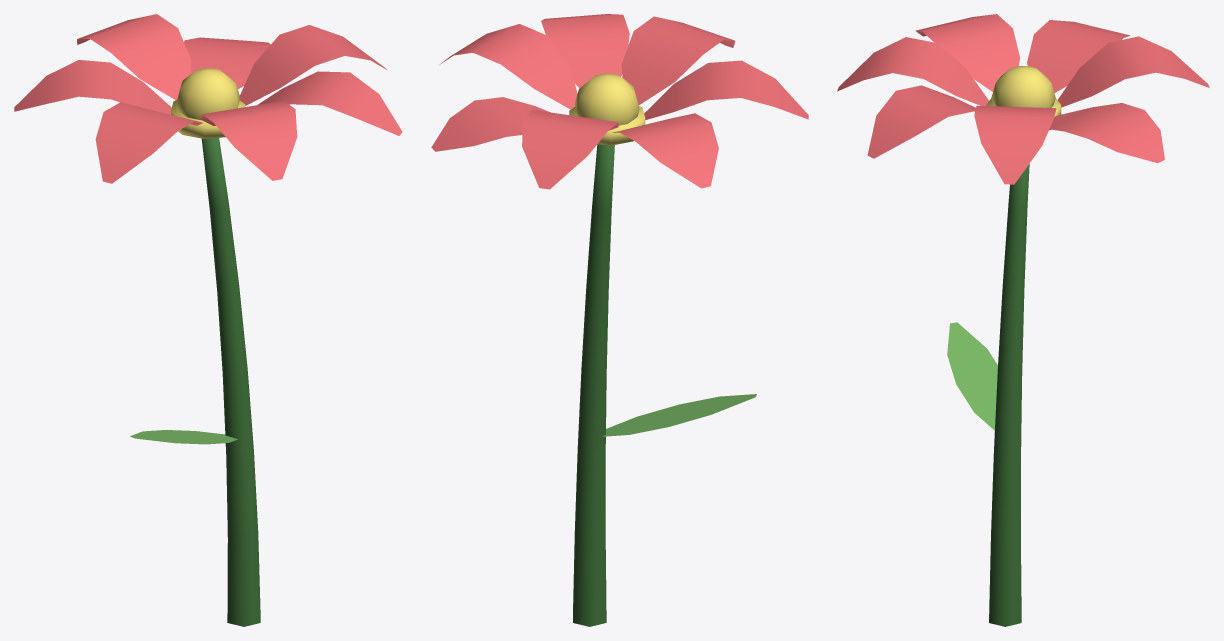
Rendered from flower_redA.glb.
The picture shows the model from 3 angles, left to right: view 1: azimuth 30°, elevation 25°; view 2: azimuth 150°, elevation 25°; view 3: azimuth 270°, elevation 25°; orthographic projection. The views are drawn at different scales.
Parts seen in each view (by area): view 1: flower_redA; view 2: flower_redA; view 3: flower_redA.
Boxes of the visible parts, left/top/right/bottom form: flower_redA: left=14, top=14, right=402, bottom=626; flower_redA: left=431, top=14, right=808, bottom=626; flower_redA: left=837, top=14, right=1209, bottom=626.
Size of the model in its own units: 0.1365 by 0.2236 by 0.1389.
